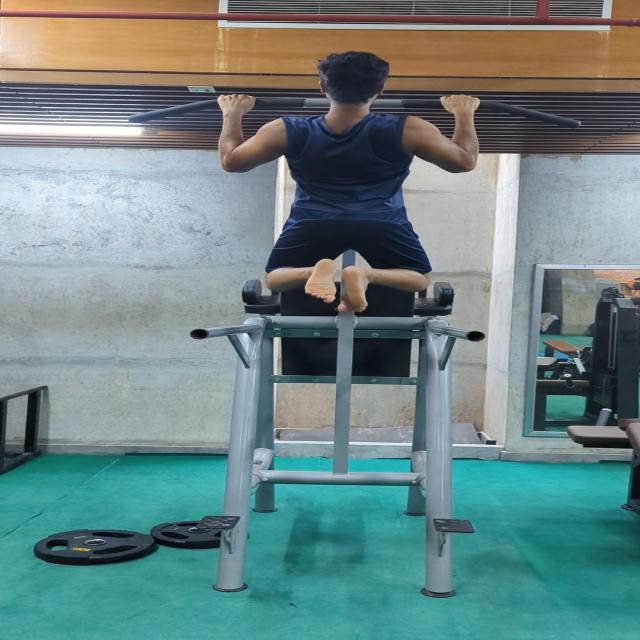Normal_PullUps: (208, 42, 488, 314)
